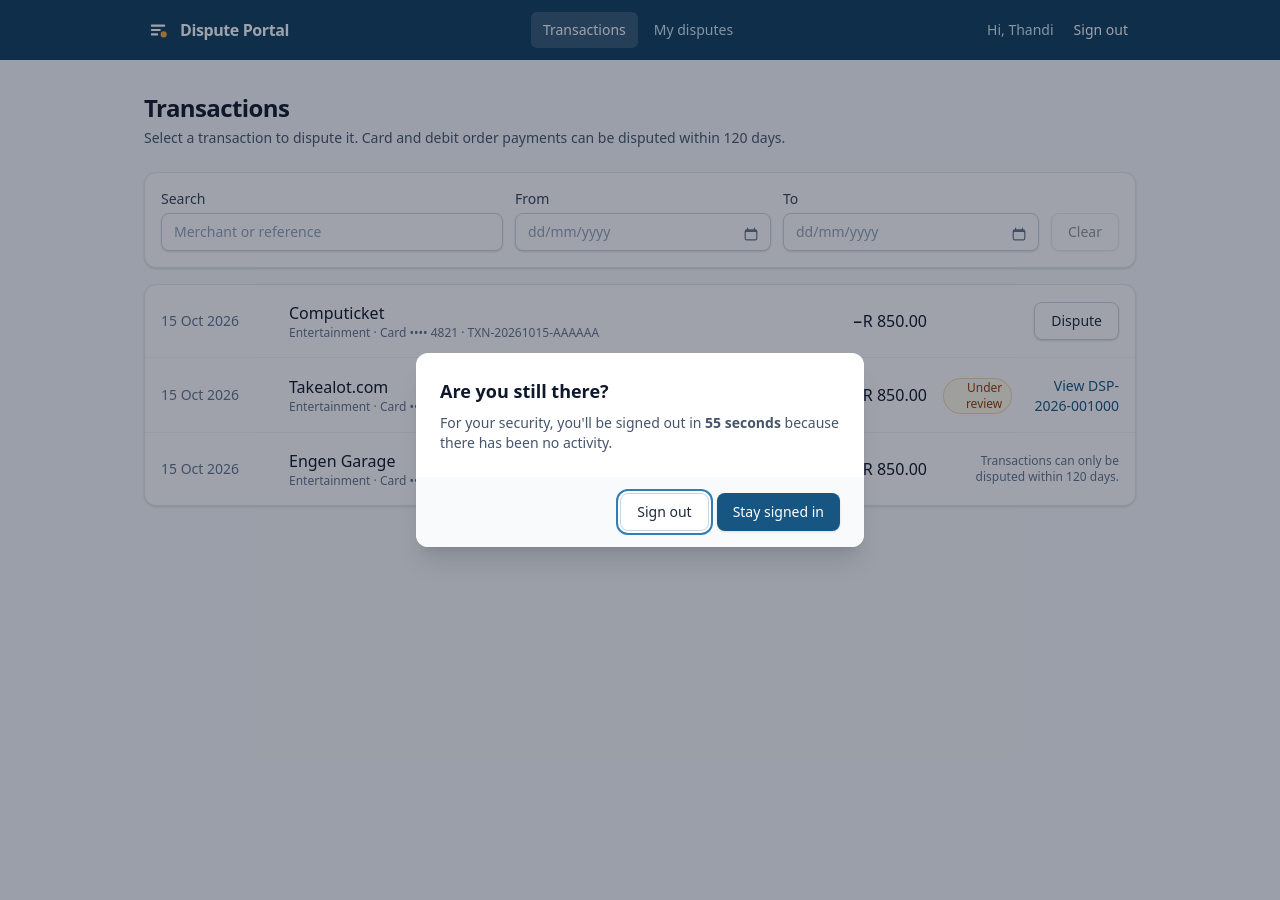
Test: AuthProvider › "still there?" warning › shows the error and stays open if the API cannot be reached
Expected: the heading "Transactions" is shown, x1=144 y1=91 x2=289 y2=124
Click the button "Stay signed in": coordinates (778, 512) x1=717 y1=493 x2=840 y2=531
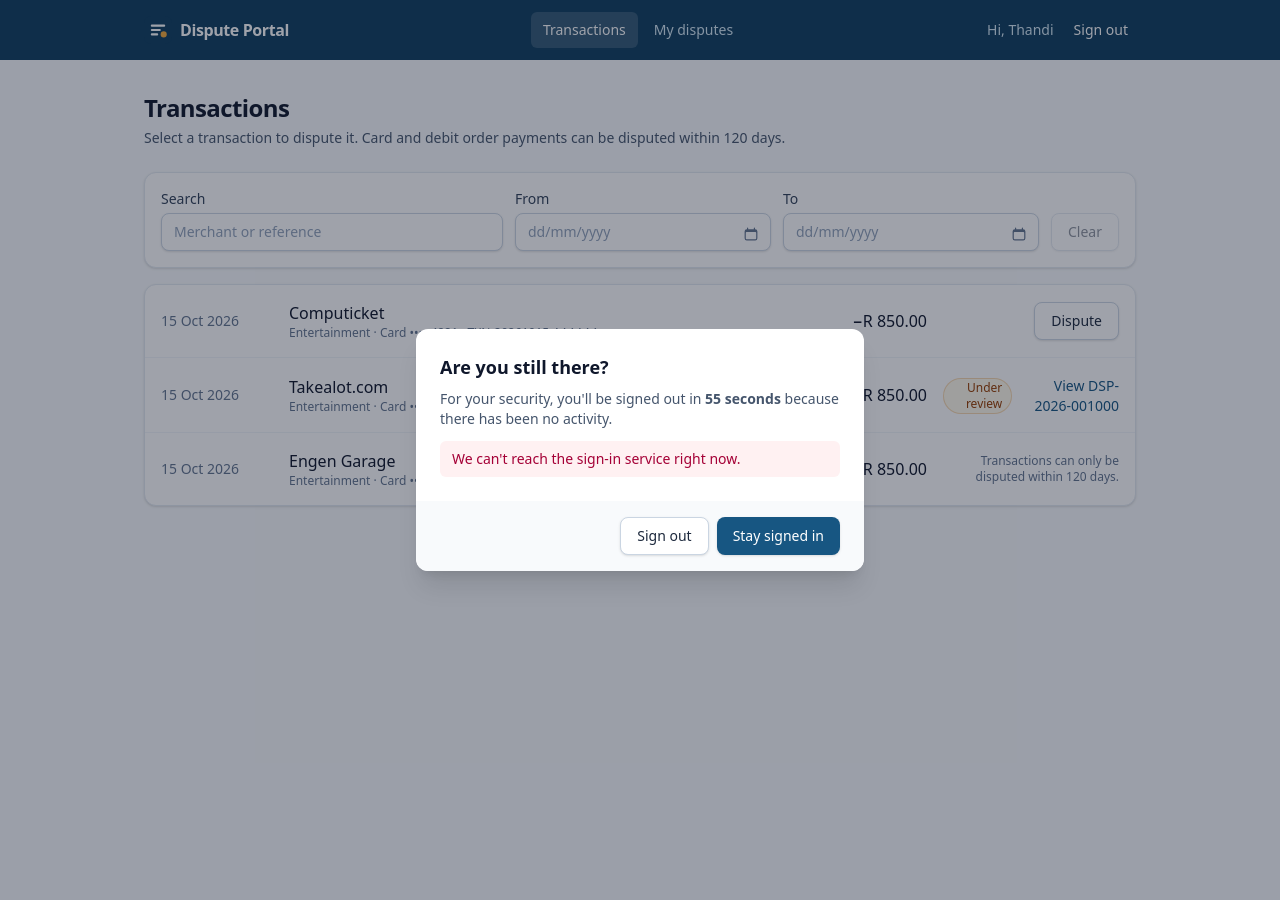
Expected: the dialog "Are you still there?" is shown, x1=416 y1=329 x2=864 y2=571
Result: the message shows "We can't reach the sign-in service" at x1=452 y1=449 x2=740 y2=468
